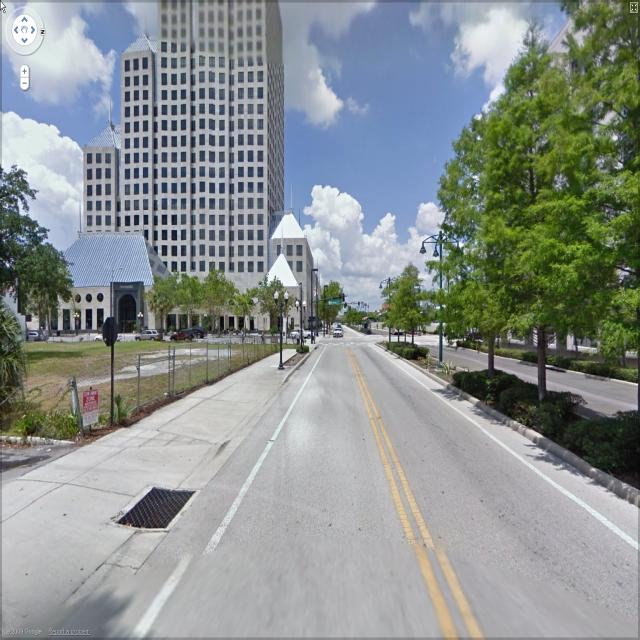b_1: (82, 7, 290, 259), (62, 220, 168, 334)
b_2: (34, 208, 338, 344)
